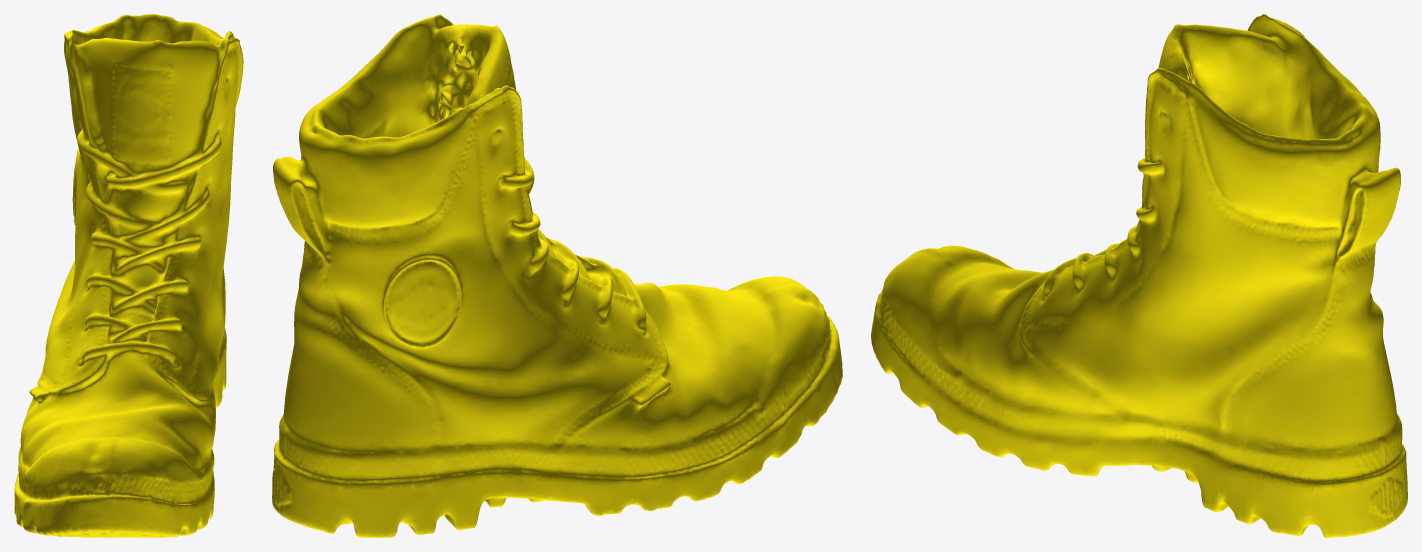
File: goldboot.glb
3 renders of one model, left to right at view 1: azimuth 30°, elevation 25°; view 2: azimuth 150°, elevation 25°; view 3: azimuth 270°, elevation 25°, orthographic. The views are drawn at different scales.
Visible parts, largest first — view 1: Object_3.002; view 2: Object_3.002; view 3: Object_3.002.
Part boxes in pixels (left/top/right/bottom): Object_3.002: left=14, top=14, right=243, bottom=537; Object_3.002: left=272, top=14, right=842, bottom=537; Object_3.002: left=871, top=14, right=1407, bottom=537.
Size of the model in its own units: 0.4254 by 0.5018 by 0.5341.
